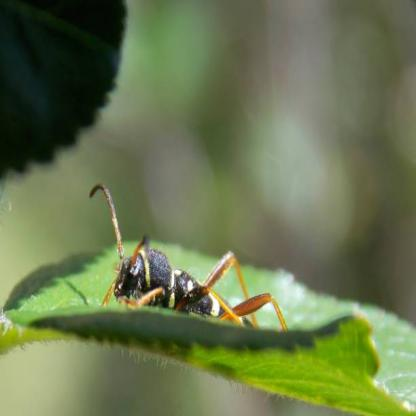sawfly: (88, 180, 294, 330)
